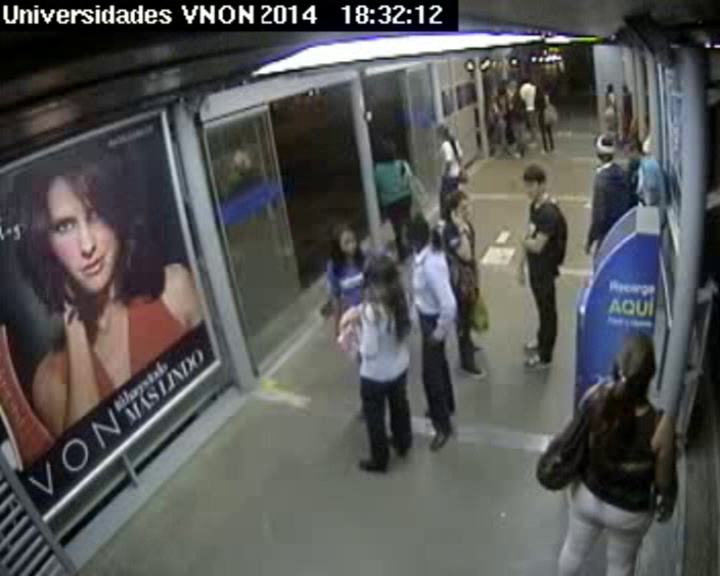person: (605, 331, 666, 401), (358, 254, 402, 301), (327, 219, 365, 262), (395, 218, 434, 257), (521, 163, 558, 203), (438, 186, 473, 224), (591, 132, 623, 165), (619, 135, 649, 164), (374, 135, 398, 164), (434, 124, 452, 142), (496, 80, 508, 94), (511, 91, 524, 103), (519, 73, 530, 84), (535, 84, 545, 95), (620, 85, 628, 95), (606, 83, 614, 92)
